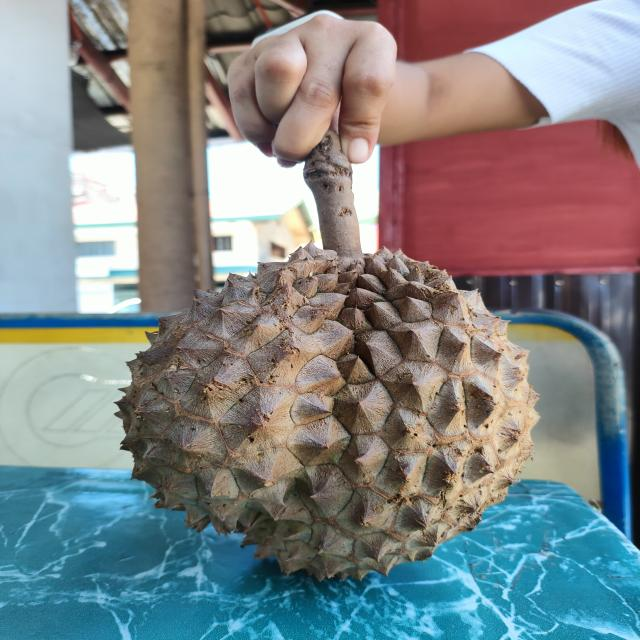mature: (114, 247, 538, 582)
